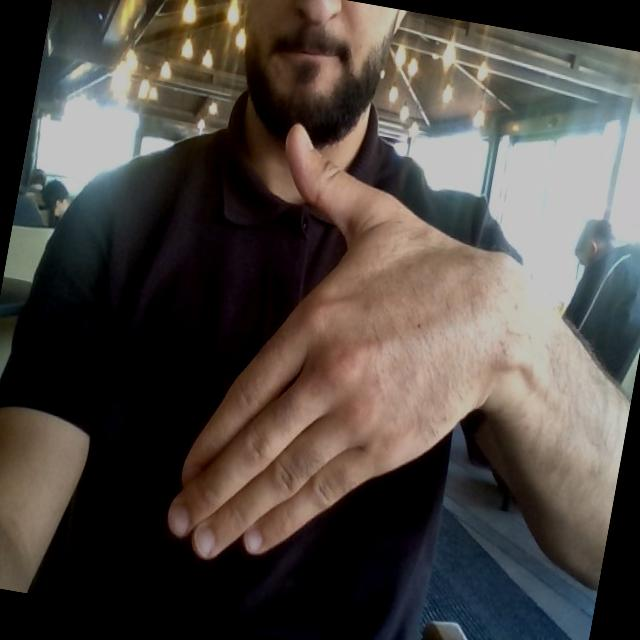Hand: (169, 126, 522, 558)
